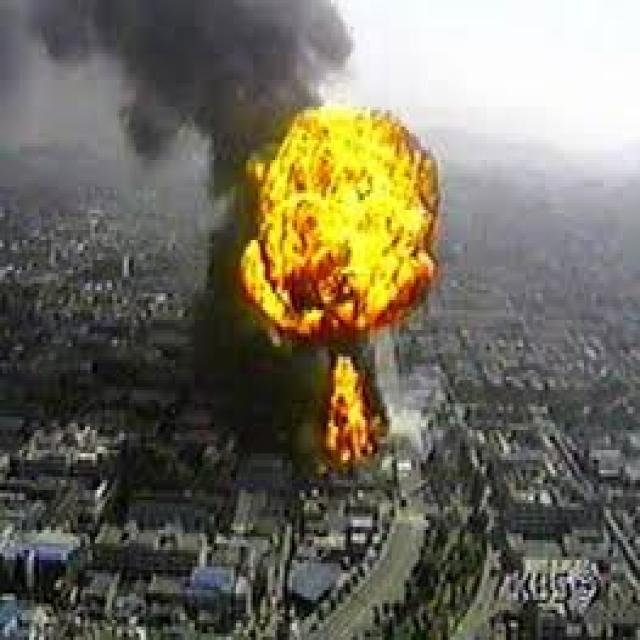explosion: (238, 88, 509, 532)
